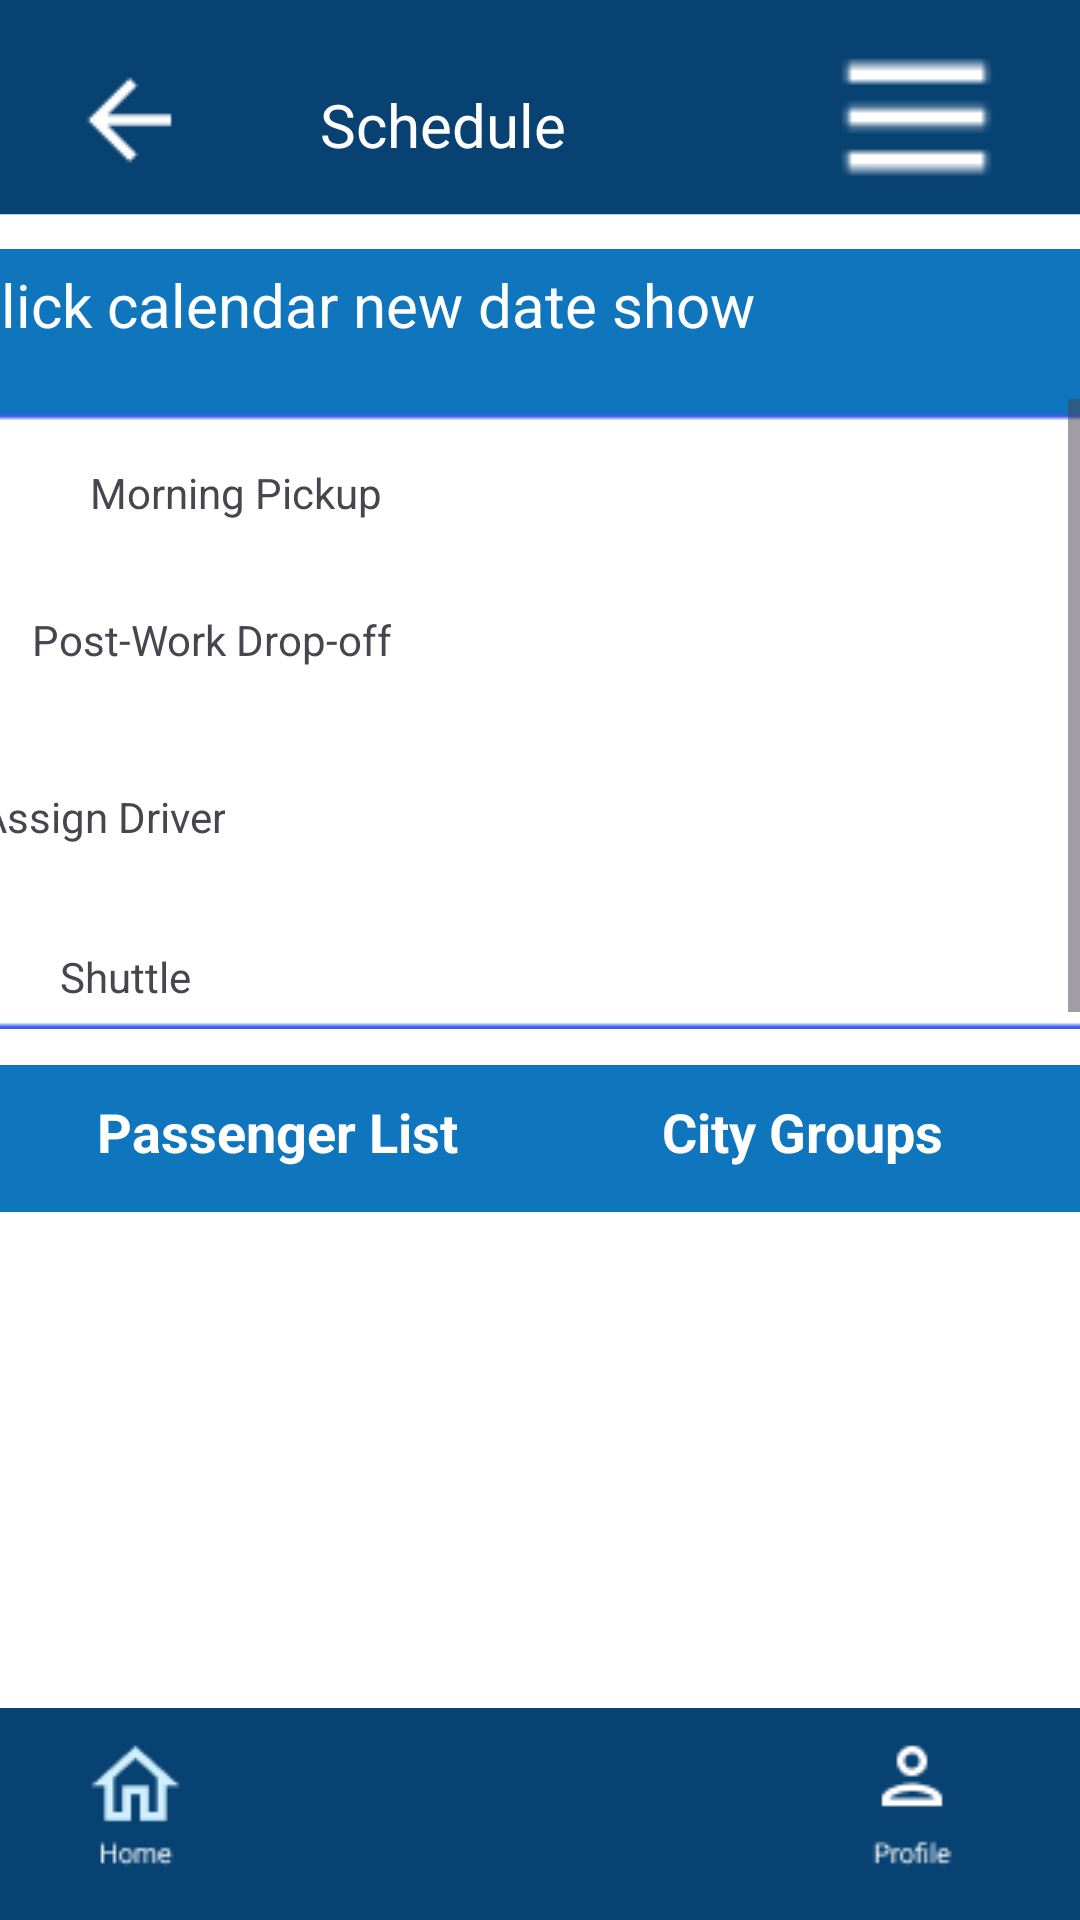

Point at icon controls on the screen. Image size 1080x1920, points as (x=x, y=y).
backktome: (x=129, y=120)
